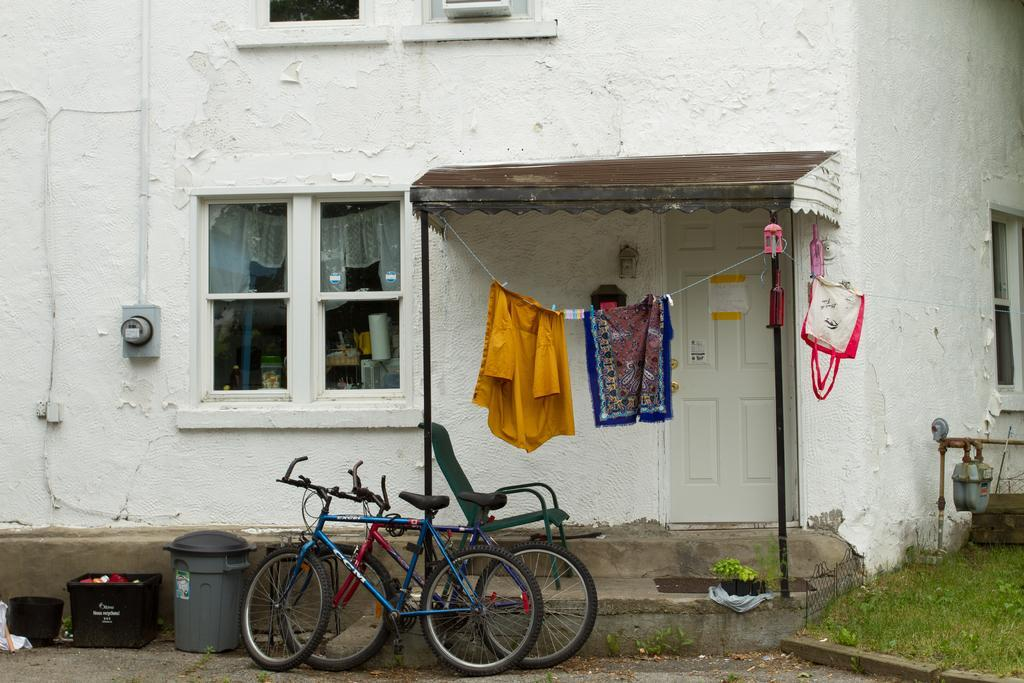door: (662, 225, 786, 514)
